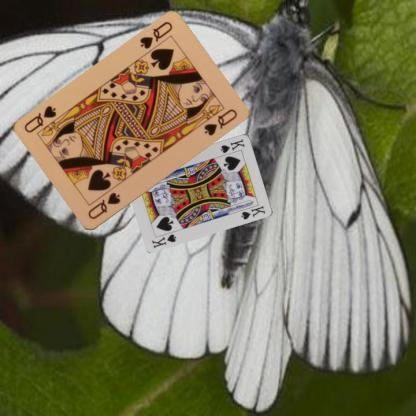Ks: (218, 136, 246, 154), (150, 231, 178, 249)
Qs: (85, 190, 122, 222), (137, 19, 174, 51)
